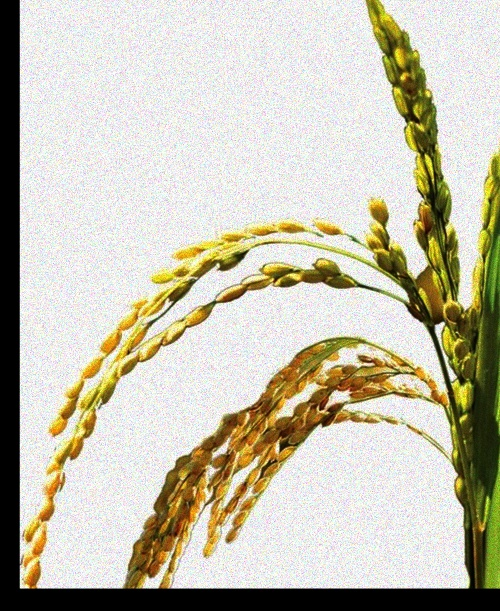rice: (22, 191, 431, 584)
